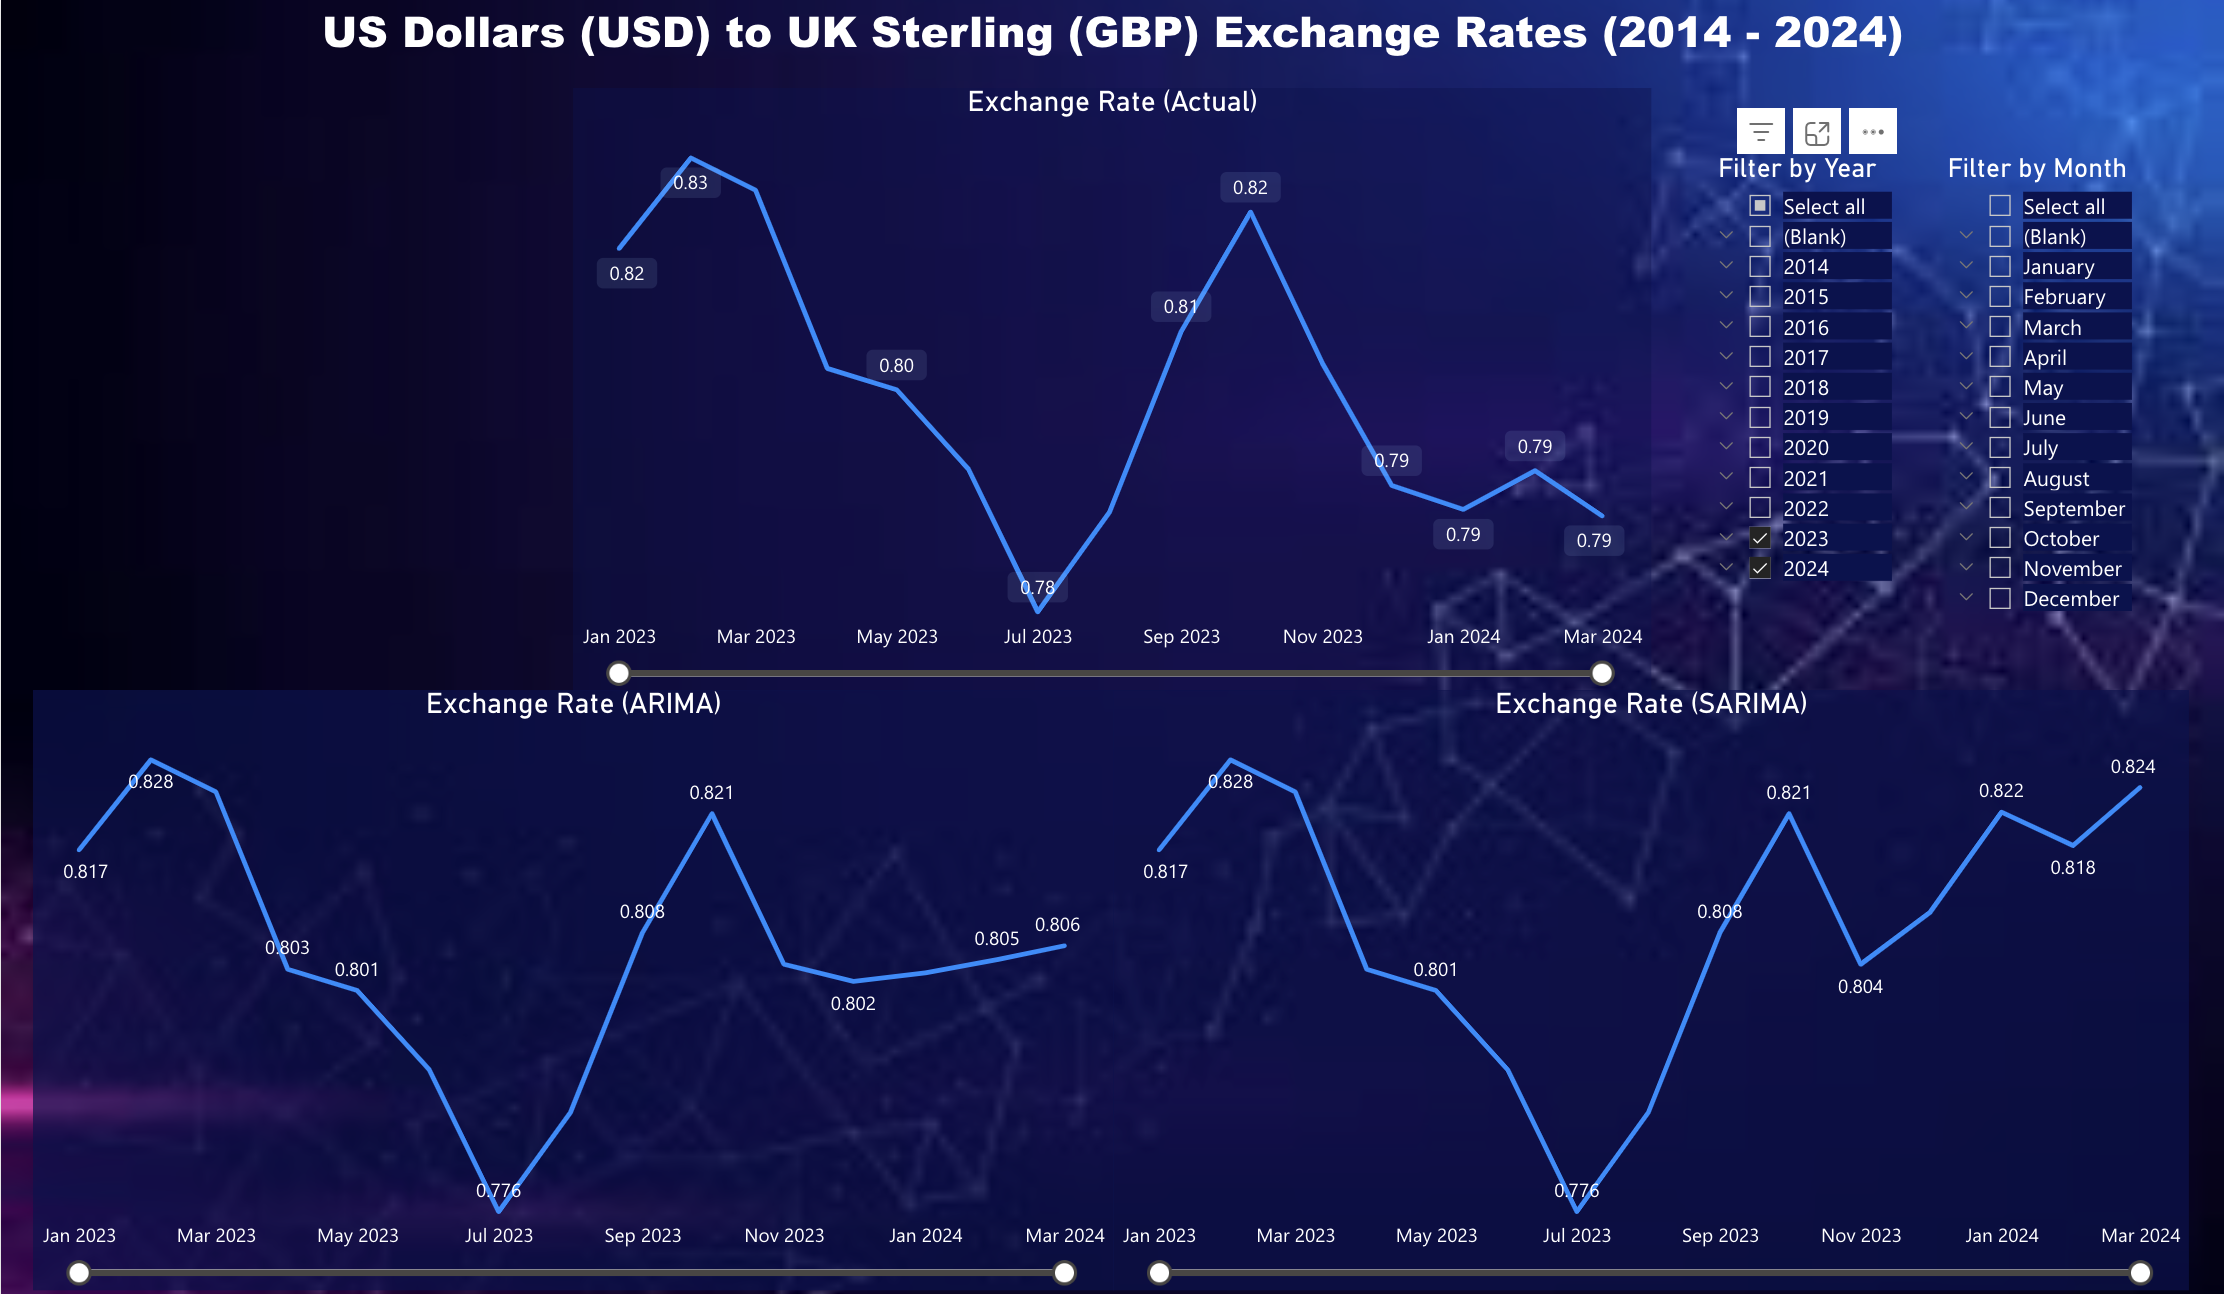

What the dashboard file says about the page in this screenshot:
{"tool":"powerbi","page":{"name":"UK","canvas":[1400,840],"ordinal":2},"visuals":[{"type":"lineChart","title":"Exchange Rate (Actual)","fields":{"Y":["Sum(ukm.Ex_rate)"],"Category":["ukm.Date.Variation.Date Hierarchy.Year","ukm.Date.Variation.Date Hierarchy.Quarter","ukm.Date.Variation.Date Hierarchy.Month","ukm.Date.Variation.Date Hierarchy.Day"]},"box":[359.8,55.8,679.1,379.3],"z":0},{"type":"lineChart","title":"Exchange Rate (ARIMA)","fields":{"Y":["Sum(uk_arima_forecasts.Exchange Rate)"],"Category":["uk_arima_forecasts.Date.Variation.Date Hierarchy.Year"]},"box":[19.5,435.1,680.5,377.9],"z":1000},{"type":"lineChart","title":"Exchange Rate (SARIMA)","fields":{"Y":["Sum(uk_sarima_forecasts.Exchange Rate)"],"Category":["uk_sarima_forecasts.Date.Variation.Date Hierarchy.Year"]},"box":[700,435.1,677.7,377.9],"z":2000},{"type":"textbox","title":"US Dollars (USD) to UK Sterling (GBP) Exchange Rates (2014 - 2024)","box":[0,0,1400,68.3],"z":3000},{"type":"slicer","title":"Filter by Year","fields":{"Values":["ukm.Date.Variation.Date Hierarchy.Year","ukm.Date.Variation.Date Hierarchy.Quarter"]},"box":[1066.7,98.8,128.9,294.7],"z":4000},{"type":"slicer","title":"Filter by Month","fields":{"Values":["indm.Date.Variation.Date Hierarchy.Month","indm.Date.Variation.Date Hierarchy.Day"]},"box":[1217.5,98.8,128.9,294.7],"z":5000}]}

Visuals, with their boxes on the page's 1400x840 design canvas (x1, y1, x2, y2). These are canvas units, not pixel positions in the 2224x1294 screenshot, which may show the page scaled, cropped or inside an application window:
"Exchange Rate (Actual)" lineChart: <box>360,56,1039,435</box>
"Exchange Rate (ARIMA)" lineChart: <box>20,435,700,813</box>
"Exchange Rate (SARIMA)" lineChart: <box>700,435,1378,813</box>
"US Dollars (USD) to UK Sterling (GBP) Exchange Rates (2014 - 2024)" textbox: <box>0,0,1400,68</box>
"Filter by Year" slicer: <box>1067,99,1196,394</box>
"Filter by Month" slicer: <box>1218,99,1346,394</box>
